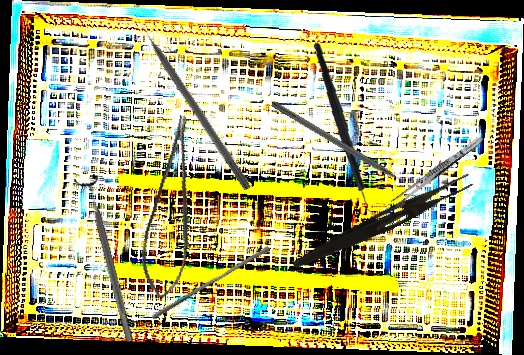Chopper: (304, 42, 391, 220)
Dressing Forceps: (290, 166, 475, 279), (391, 133, 486, 209)
Fixation Ring: (72, 173, 143, 345)
Hook Surgical: (269, 99, 421, 196)
Micro Scissor: (129, 113, 222, 302)
Pusher: (131, 11, 254, 192), (151, 241, 271, 325)
